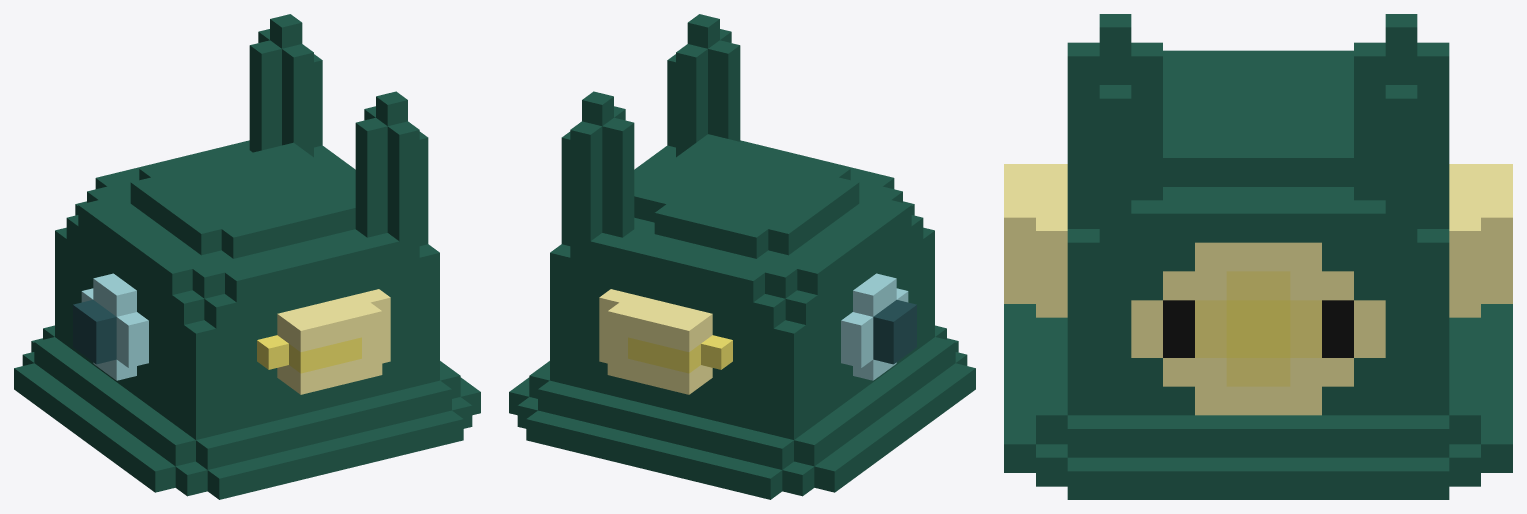
The model's file is slime11.obj.
3 renders of one model, left to right at view 1: azimuth 30°, elevation 25°; view 2: azimuth 150°, elevation 25°; view 3: azimuth 270°, elevation 25°, orthographic. The views are drawn at different scales.
Bounding box in the file's own units: 1.6 × 1.5 × 1.6.
Materials: 1 (1 with a texture image).
